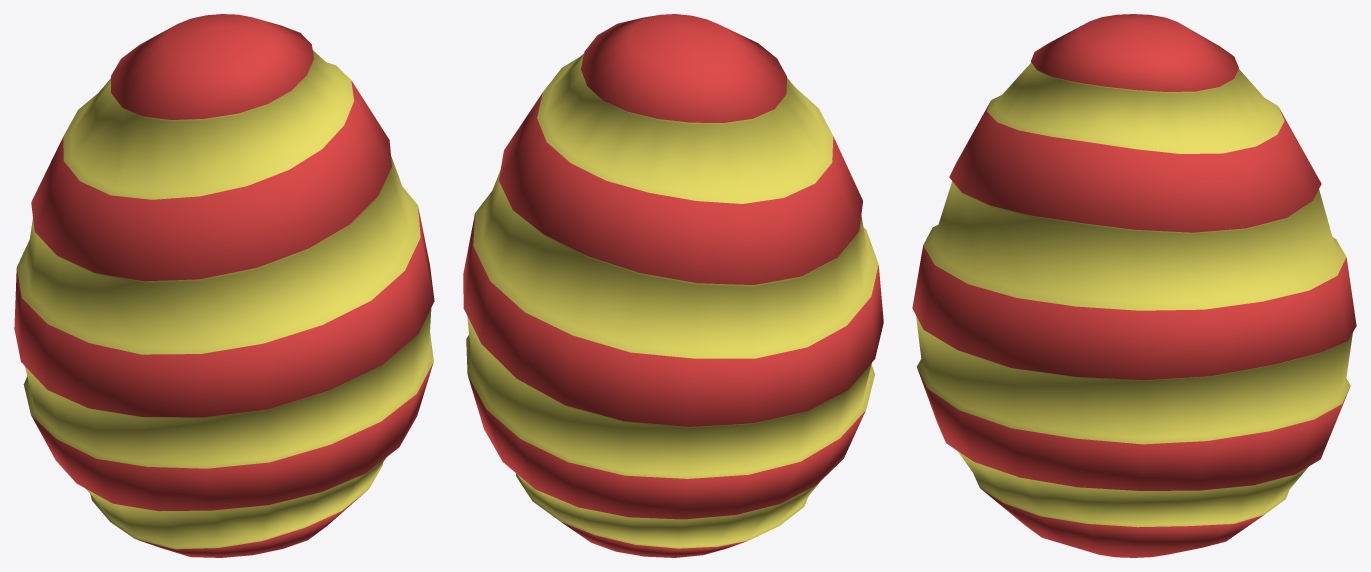
Rendered from egg_stripey.gltf.
3 views of the same model, side by side, from view 1: azimuth 30°, elevation 25°; view 2: azimuth 150°, elevation 25°; view 3: azimuth 270°, elevation 25° (orthographic).
Visible parts, largest first — view 1: Egg Stripey; view 2: Egg Stripey; view 3: Egg Stripey.
Part boxes in pixels (x1=…): Egg Stripey: x1=14, y1=14, x2=434, y2=557; Egg Stripey: x1=463, y1=14, x2=883, y2=557; Egg Stripey: x1=912, y1=14, x2=1356, y2=557.
Bounding box in the file's own units: 1.33 × 1.8 × 1.4.
